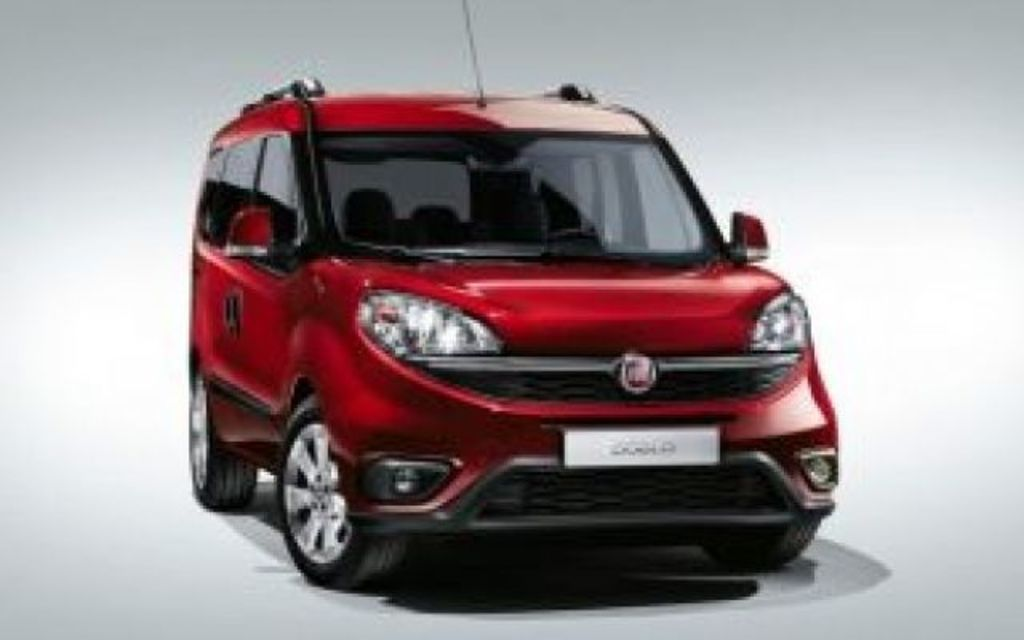mobil: (165, 77, 865, 581)
